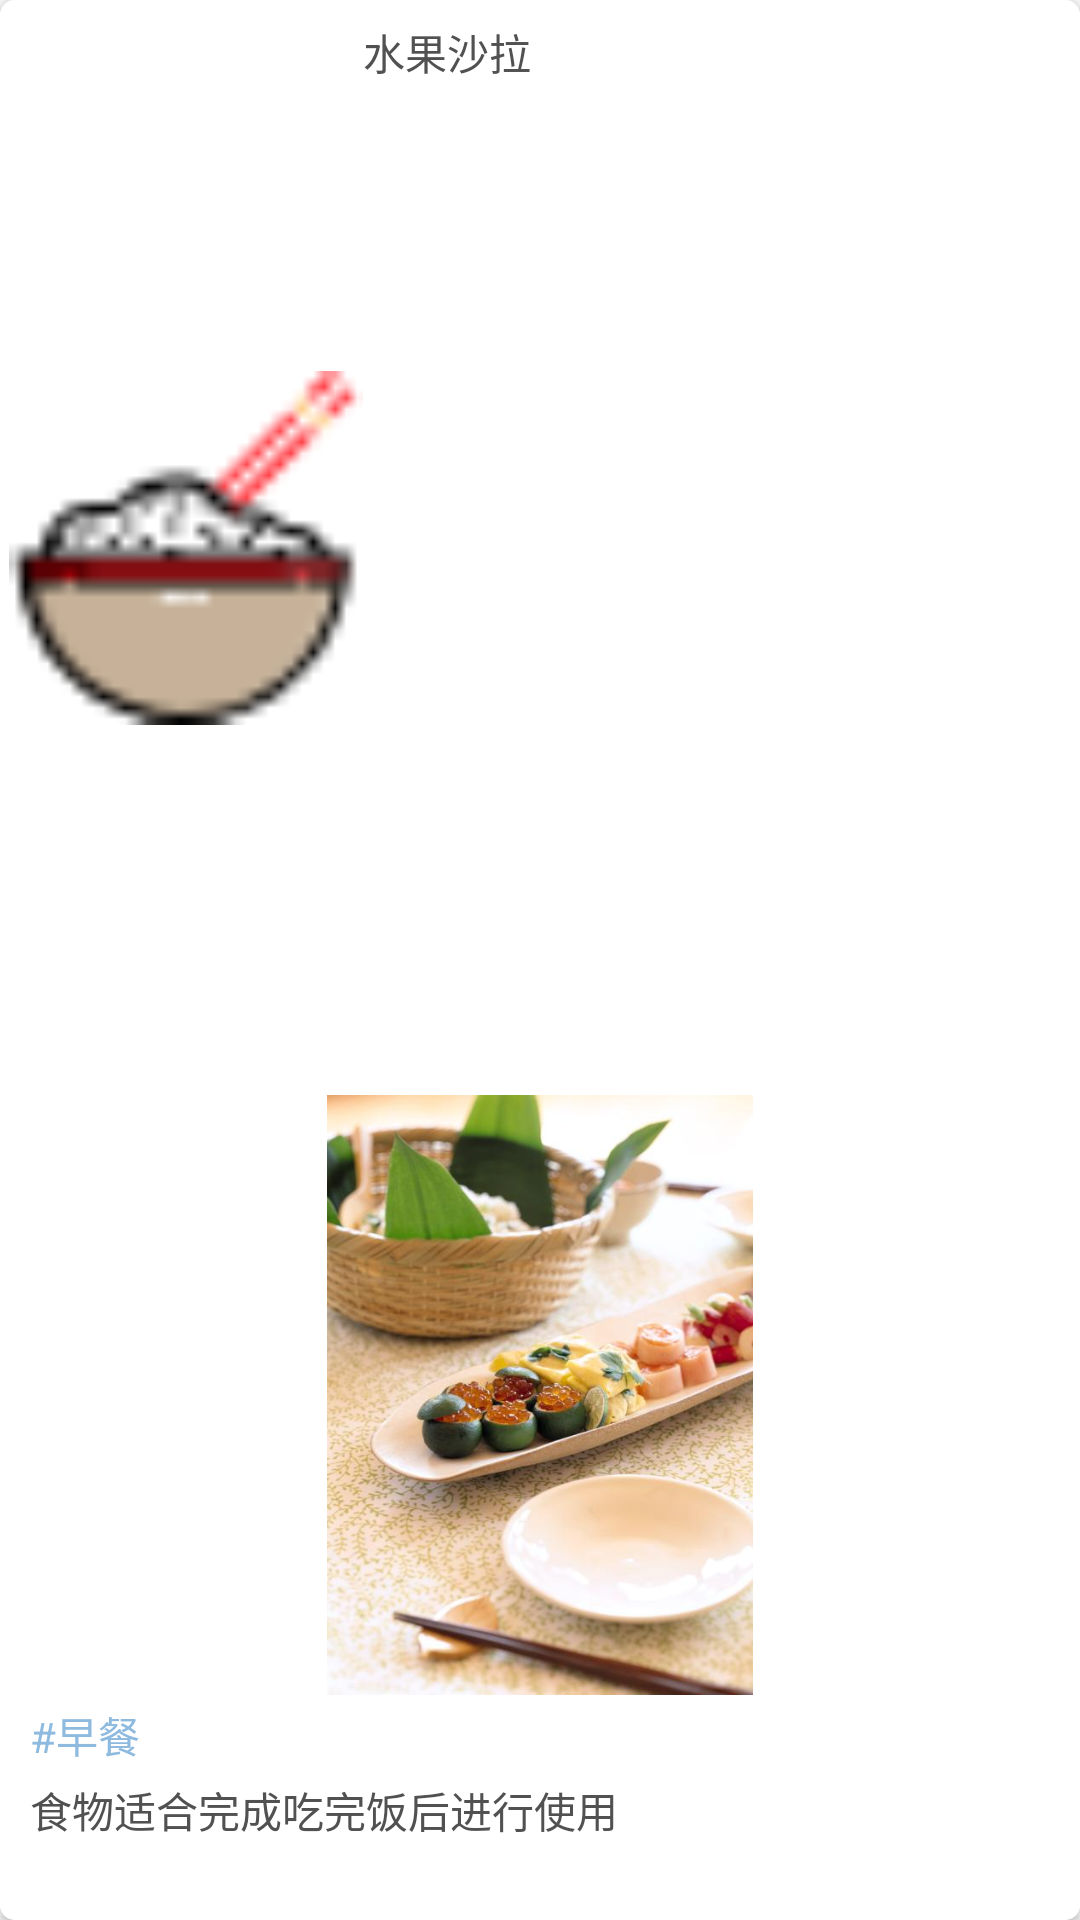

Named icons in this screenshot (1080w x 1920h) and their centers, point (x, y):
eat: point (183, 548)
